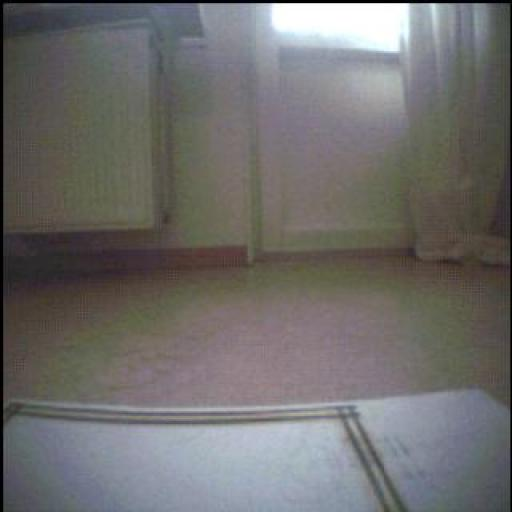Pad: (1, 386, 508, 512)
